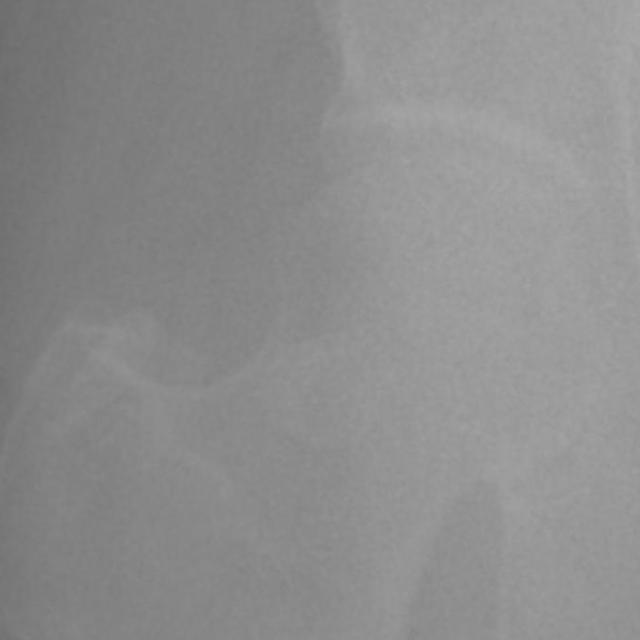Fitted_femural_head: (352, 152, 432, 352)
